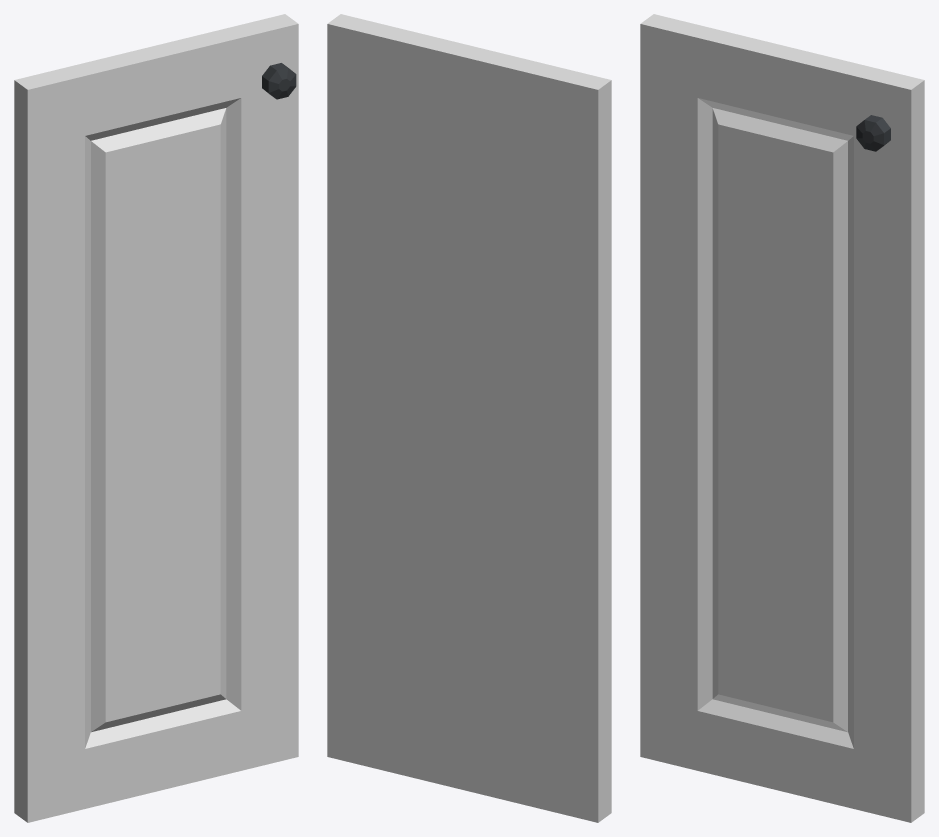
The model's file is Door3_C1_04.fbx.
3 views of the same model, side by side, from view 1: azimuth 30°, elevation 25°; view 2: azimuth 150°, elevation 25°; view 3: azimuth 330°, elevation 25° (orthographic).
Visible parts, largest first — view 1: Door3_C1_04; view 2: Door3_C1_04; view 3: Door3_C1_04.
Boxes of the visible parts, x1,y1,x2,y2 form: Door3_C1_04: [14, 14, 298, 822]; Door3_C1_04: [327, 14, 611, 822]; Door3_C1_04: [640, 14, 924, 822].
Size of the model in its own units: 29 by 75 by 5.19.
